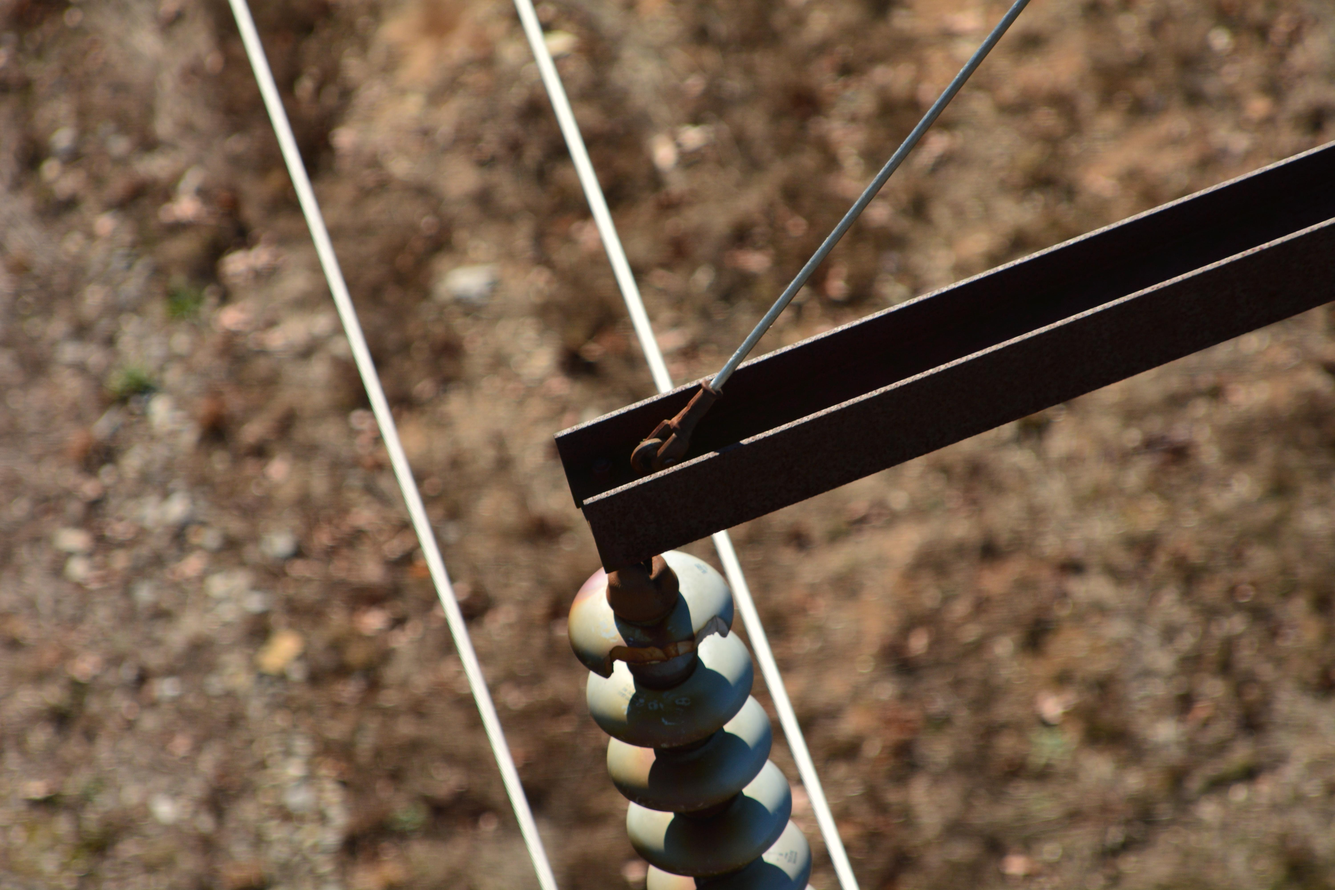damaged: (602, 605, 735, 683)
insulator: (567, 550, 812, 890)
